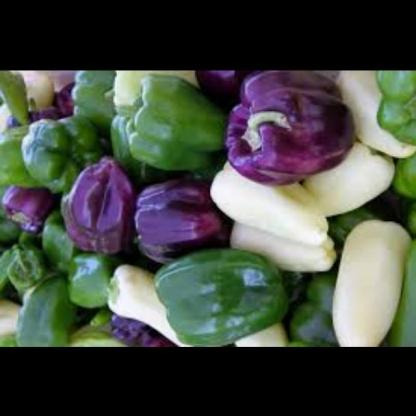bell pepper: (1, 71, 415, 344)
